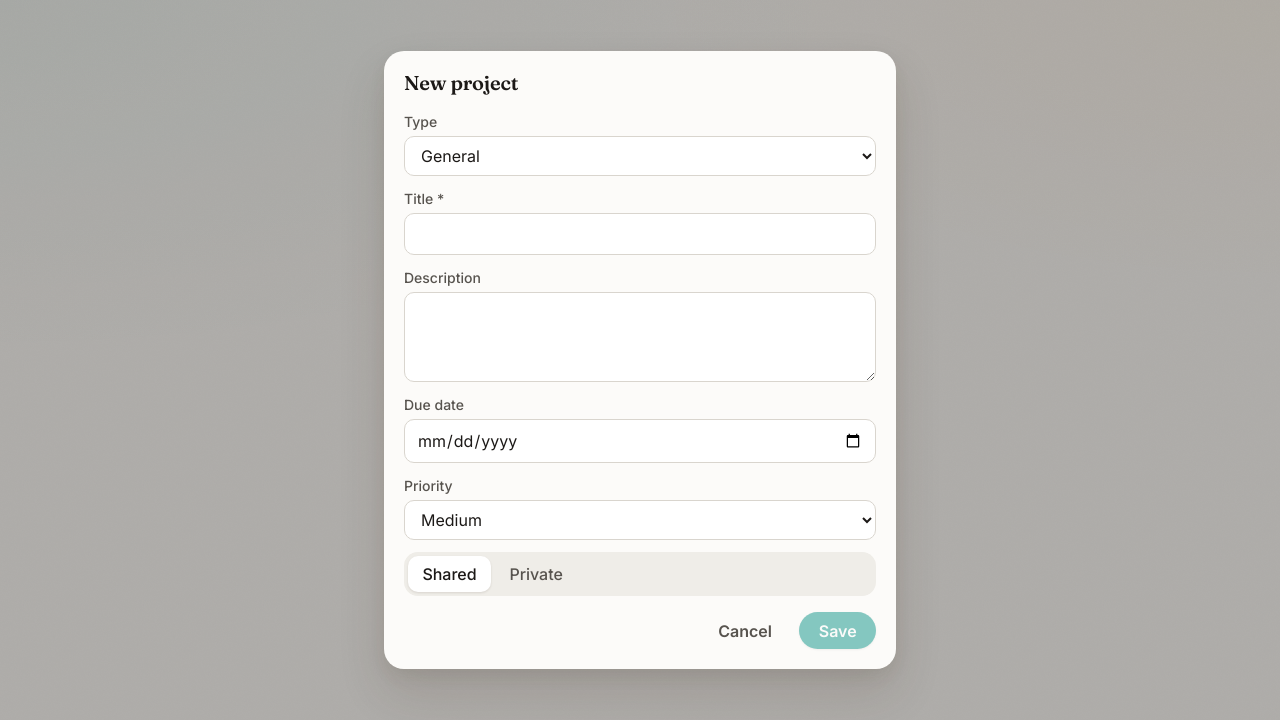
Test: ProjectForm › renders per-type fields when the type changes to Travel
Select "Travel" in the dropdown labelled "Type": (640, 156) [404,136,876,176]
(page scrolled)
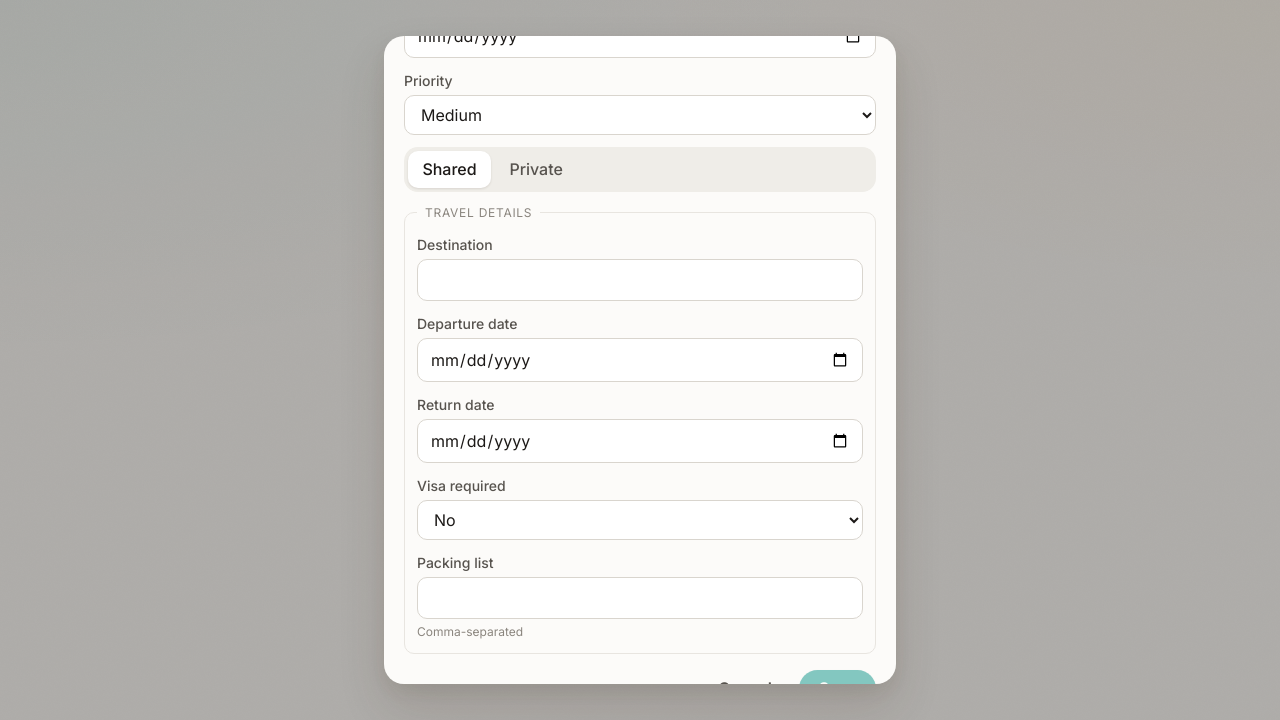
Expected: the field labelled "Destination" is shown, [417,259,863,301]
Expected: the date field labelled "Departure date" is shown, [417,338,863,382]
